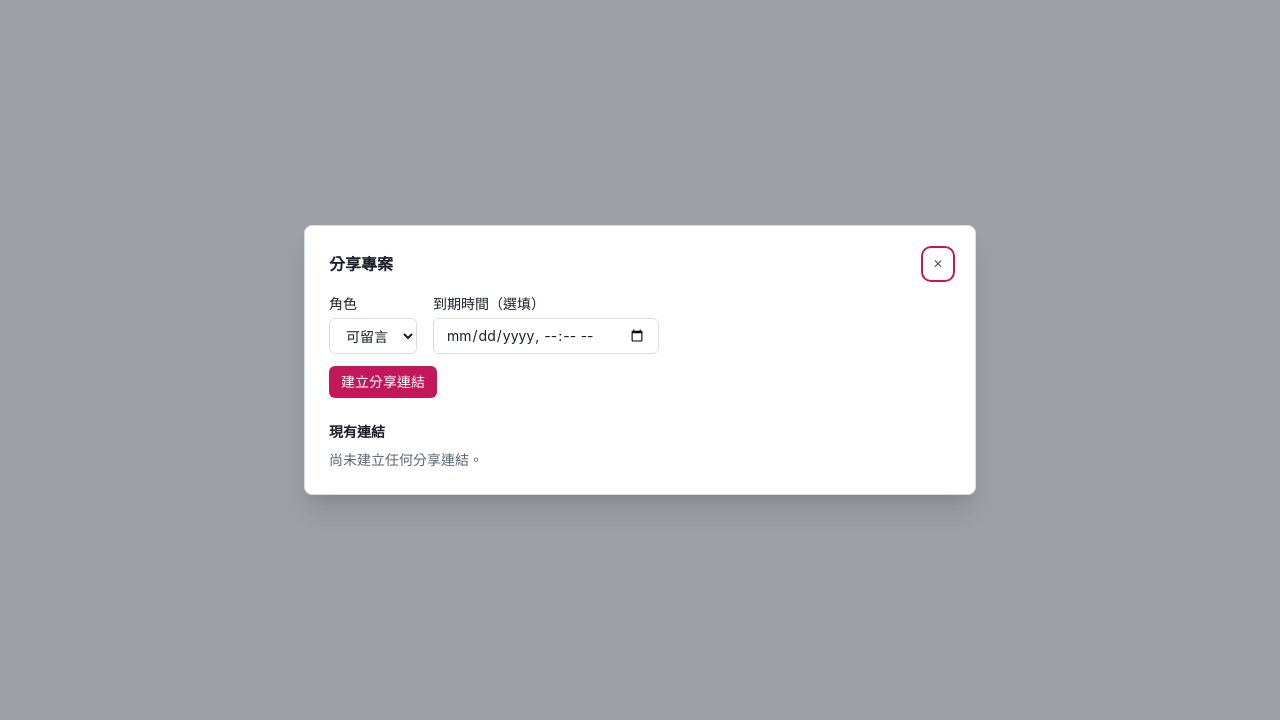
Test: ShareDialog › shows URL once after creation and clears on close
Select "僅檢視" in the dropdown labelled "角色": (373, 336) [329,318,417,354]
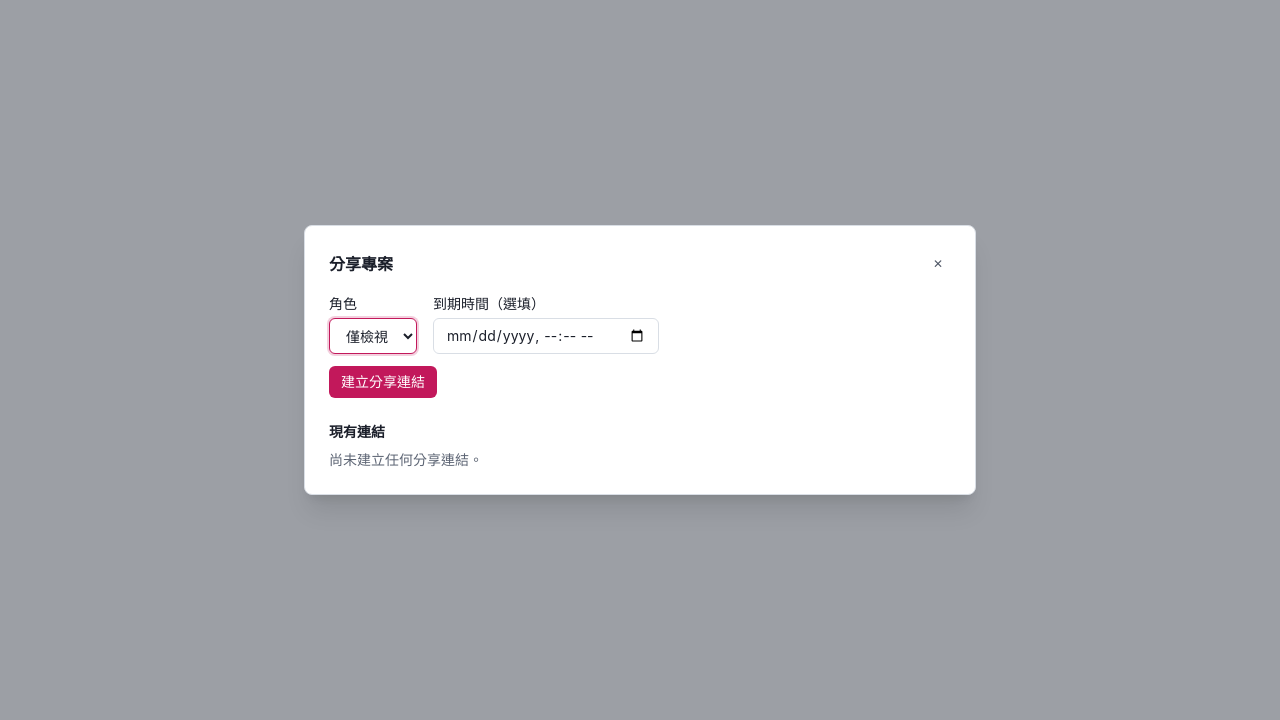
Click the button "建立分享連結": click(383, 382) [329,366,437,398]
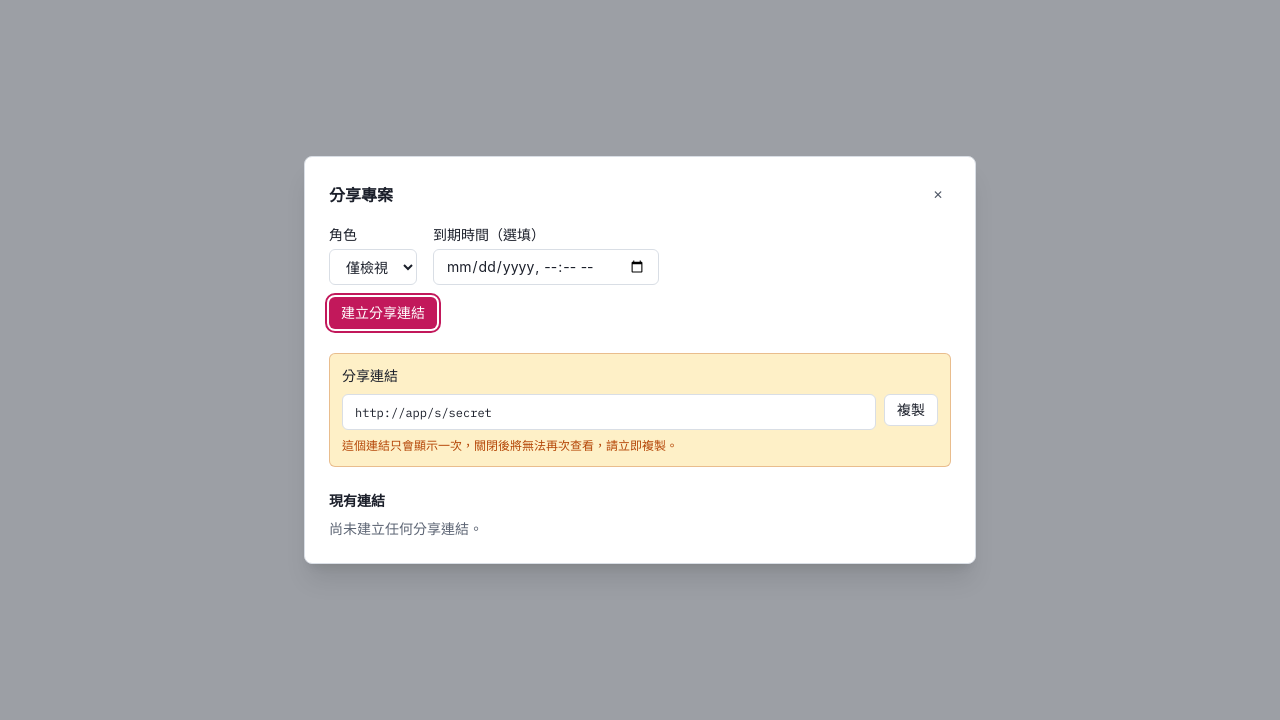
Result: the field labelled "分享連結" holds "http://app/s/secret" at [342,394,876,430]
Result: the text "這個連結只會顯示一次，關閉後將無法再次查看，請立即複製。" is shown at [342,438,678,453]
